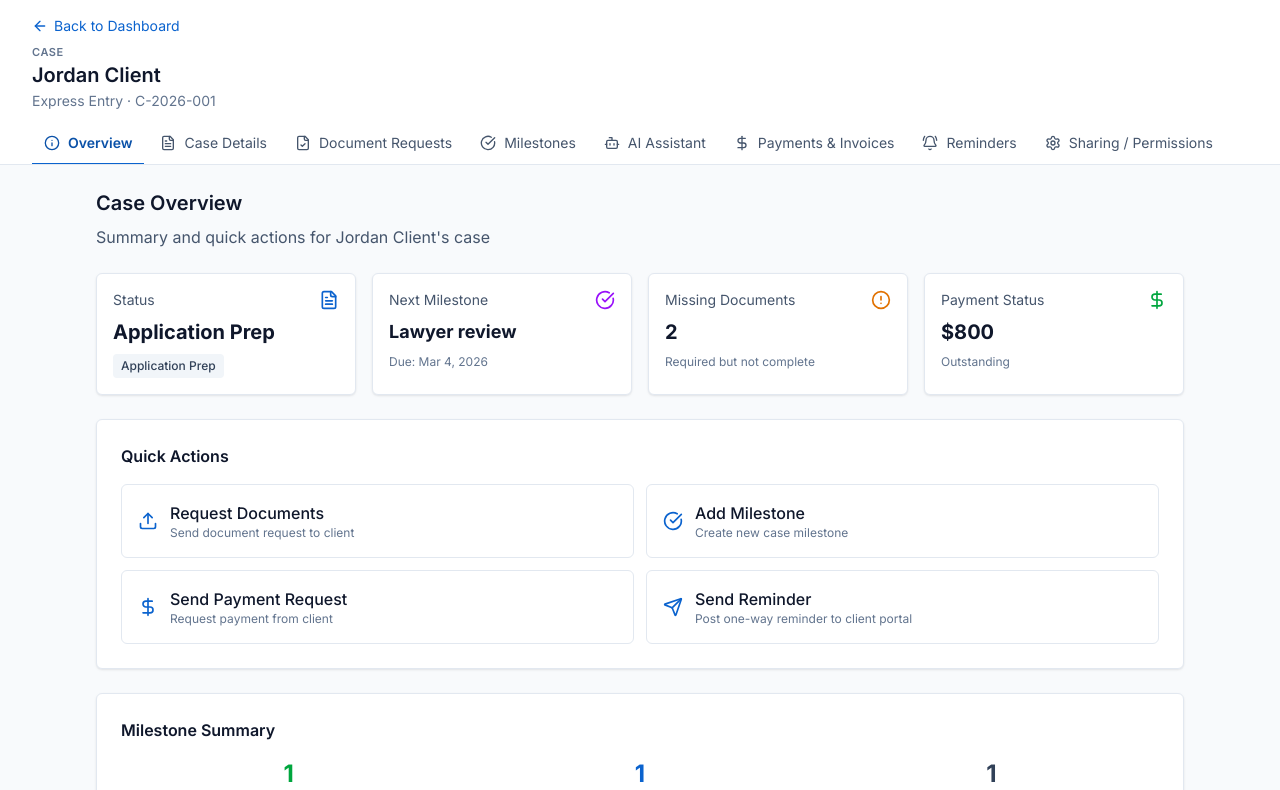
Test: CaseConfiguration overview › CT-CASECFG-03: jumps to a section from a quick action and marks the tab current
Expected: the heading "Case Overview" is shown, [96,190,242,214]
Click the button "Add Milestone Create new case milestone".
click(750, 512)  # box [646,484,1159,558]
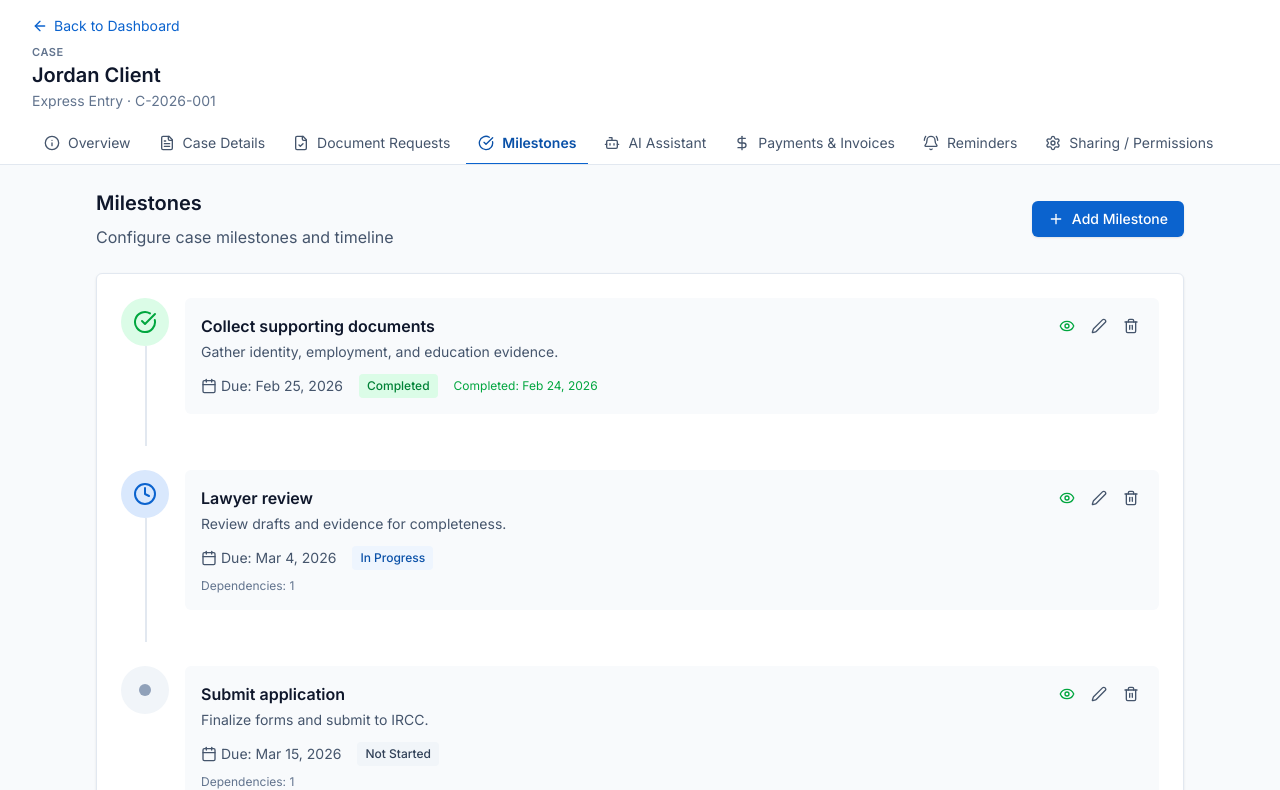
Expected: the heading "Milestones" is shown, [96,190,202,214]
